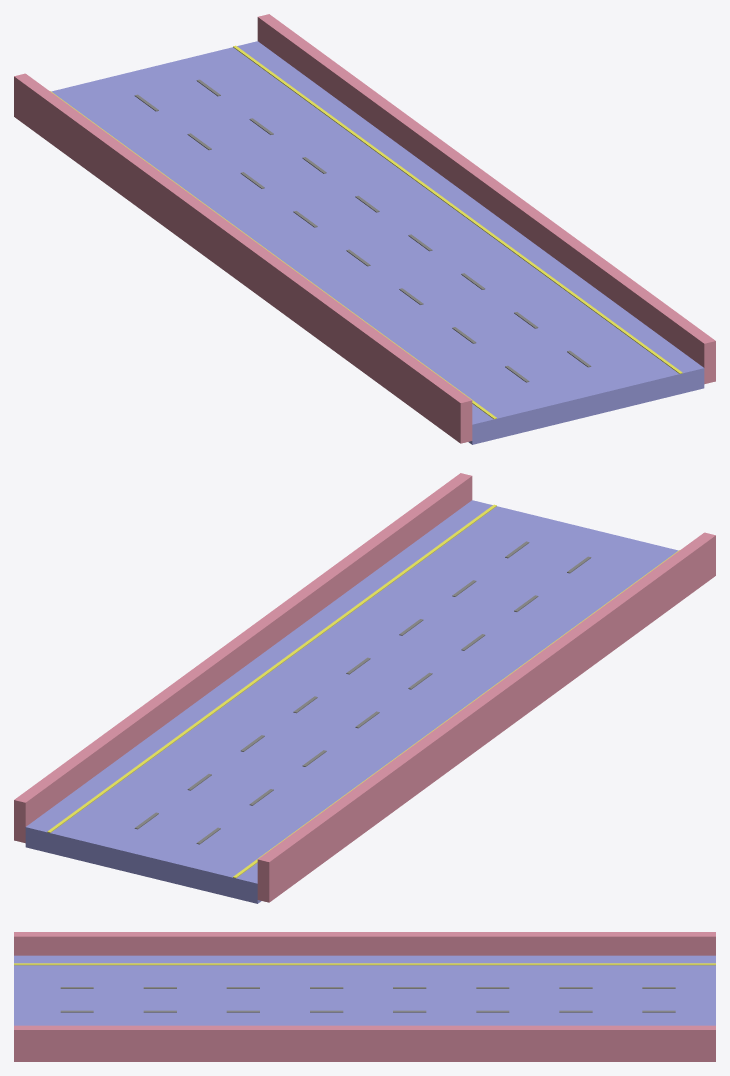
Rendered from RoadTile.fbx.
3 views of the same model, one above another, from view 1: azimuth 30°, elevation 25°; view 2: azimuth 150°, elevation 25°; view 3: azimuth 270°, elevation 25° (orthographic). The views are drawn at different scales.
Parts seen in each view (by area): view 1: GroundTlle, LeftBarrier, RightBarrier, LaneLine_Right, DashLine_Left, DashLine_Right, LaneLine_Left; view 2: GroundTlle, LeftBarrier, RightBarrier, LaneLine_Right, DashLine_Left, DashLine_Right, LaneLine_Left; view 3: GroundTlle, RightBarrier, LeftBarrier, LaneLine_Left, DashLine_Right, DashLine_Left.
Part boxes in pixels (x1,y1,x2,y2): GroundTlle: (51, 41, 704, 444); LeftBarrier: (14, 73, 472, 443); RightBarrier: (257, 14, 715, 384); LaneLine_Right: (233, 45, 682, 373); DashLine_Left: (134, 94, 529, 382); DashLine_Right: (196, 79, 591, 367); LaneLine_Left: (50, 91, 496, 419); GroundTlle: (25, 500, 678, 903); LeftBarrier: (257, 532, 715, 902); RightBarrier: (14, 473, 472, 843); LaneLine_Right: (47, 504, 496, 832); DashLine_Left: (196, 556, 591, 844); DashLine_Right: (134, 541, 529, 829); LaneLine_Left: (233, 550, 679, 878); GroundTlle: (14, 955, 715, 1025); RightBarrier: (14, 1025, 715, 1061); LeftBarrier: (14, 932, 715, 955); LaneLine_Left: (14, 963, 715, 965); DashLine_Right: (60, 1010, 675, 1012); DashLine_Left: (60, 987, 675, 988).
Size of the model in its own units: 6.6 by 1.1 by 20.
